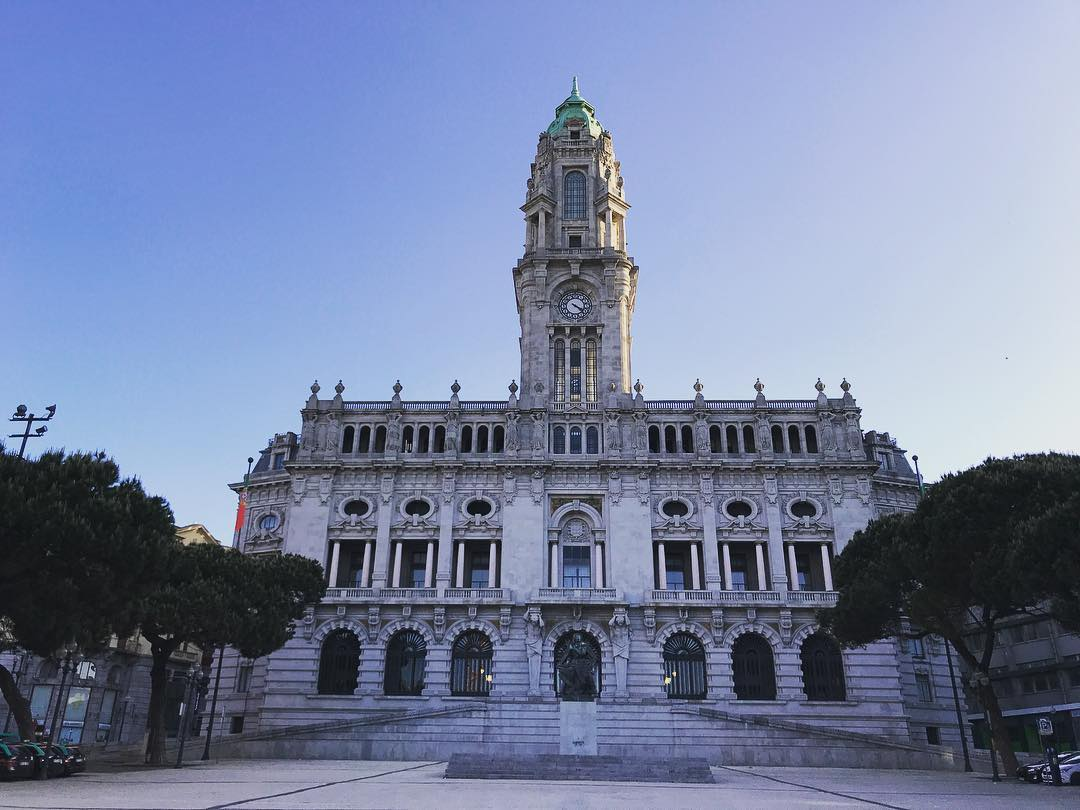camara: (201, 73, 974, 740)
